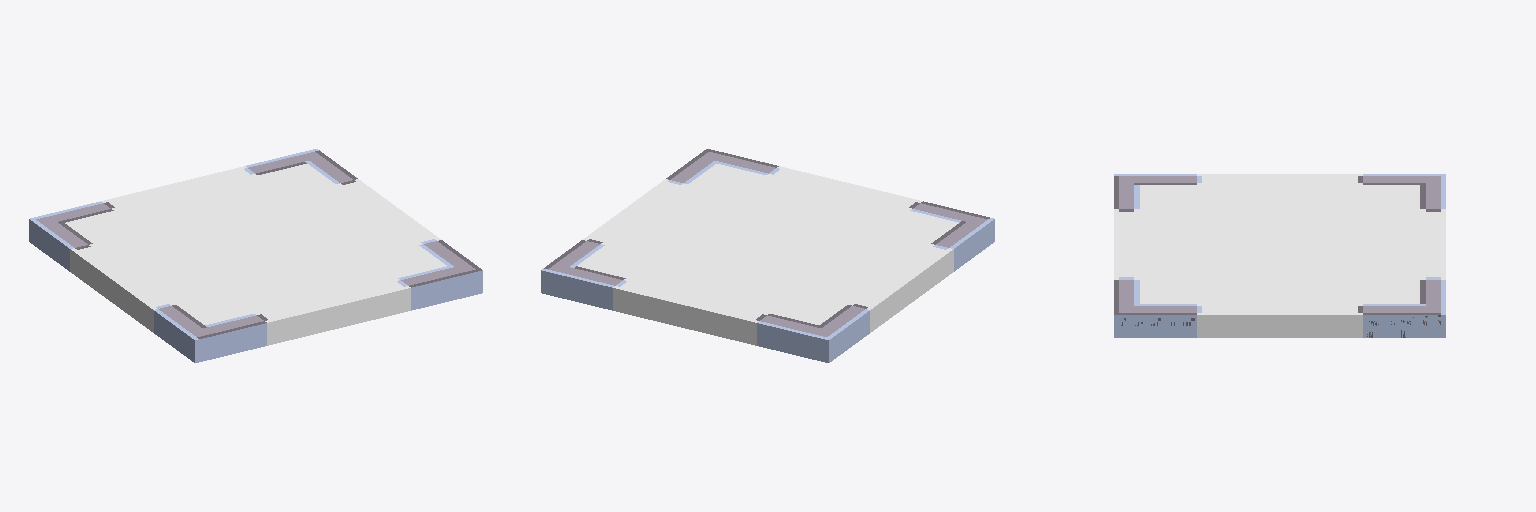
3 renders of one model, left to right at view 1: azimuth 30°, elevation 25°; view 2: azimuth 150°, elevation 25°; view 3: azimuth 270°, elevation 25°, orthographic.
Visible parts, largest first — view 1: 平面; view 2: 平面; view 3: 平面.
Boxes of the visible parts, x1=… form: 平面: x1=29, y1=149, x2=482, y2=362; 平面: x1=541, y1=149, x2=994, y2=362; 平面: x1=1114, y1=174, x2=1445, y2=337.
Size of the model in its own units: 1 by 0.0763 by 1.
1 materials, 1 textured.